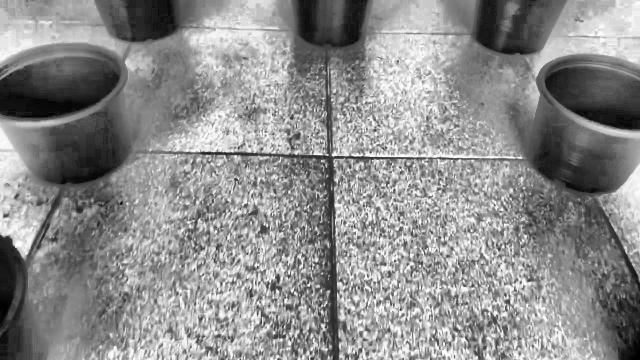pot: (0, 44, 134, 187), (526, 54, 640, 195)
